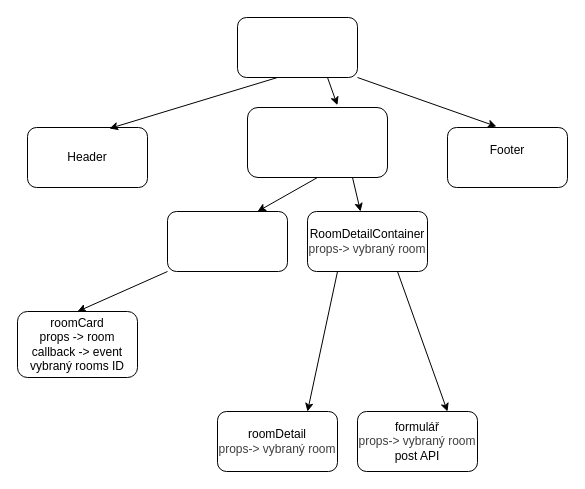
Image size: 585x489. Some labels were removed from this diagram. Here are the shapes that lost their labels. From the top down, the centre of each, then its label:
At point 297,47: "APP state -> rooms".
At point 317,142: "Main state-> rooms fetch rooms props=room props= vybraný room".
At point 227,241: "roomsContainer props-> rooms callback -> event rooms ID".
